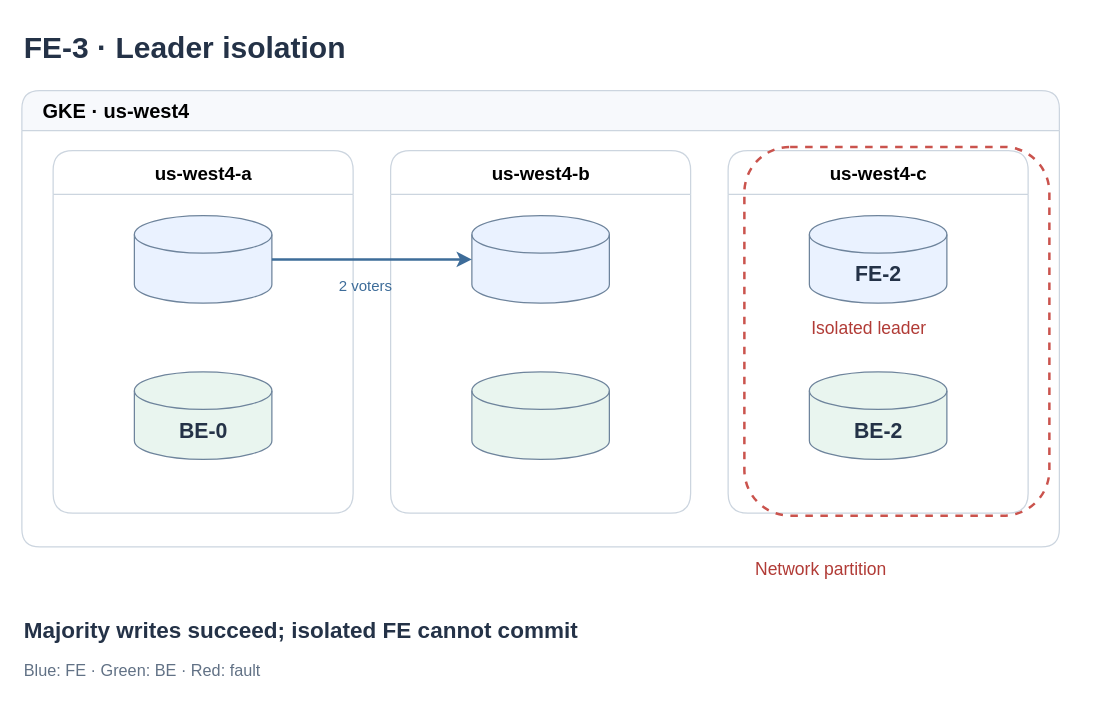
Some shapes in this 1094 by 709 pixel diagram are drawn without their labels. The shapes that lost their labels are listed below. From the top down, each one's centre as x and y in pixels, then its label:
At point 202,258: "FE-0".
At point 540,258: "FE-1".
At point 540,415: "BE-1".
